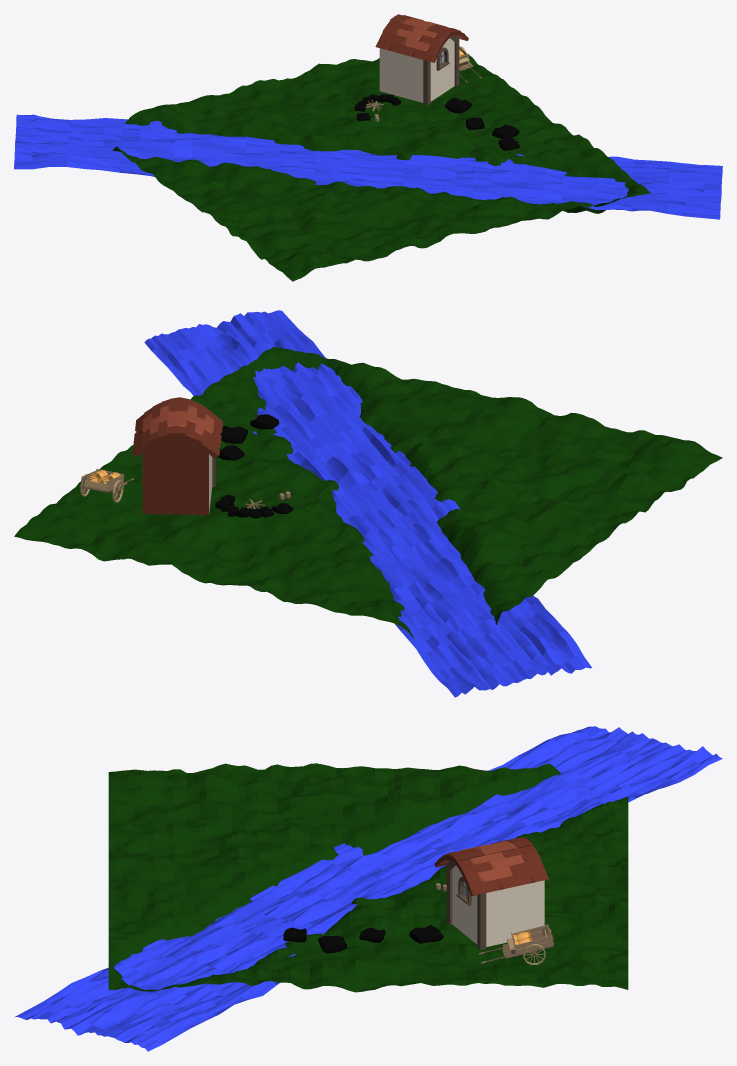
File: niwahako.obj
3 renders of one model, top to bottom at view 1: azimuth 30°, elevation 25°; view 2: azimuth 150°, elevation 25°; view 3: azimuth 270°, elevation 25°, orthographic. The views are drawn at different scales.
Parts seen in each view (by area): view 1: kawa:pPlane1, kawa:pPlane2, home:object53 home:object43, home:object53 home:object41; view 2: kawa:pPlane1, kawa:pPlane2, home:object53 home:object43; view 3: kawa:pPlane1, kawa:pPlane2, home:object53 home:object43, home:object53 home:object41.
Part boxes in pixels (box(x1,y1,x2,y2)): kawa:pPlane1: box(112, 55, 650, 281); kawa:pPlane2: box(14, 114, 722, 219); home:object53 home:object43: box(375, 14, 468, 102); home:object53 home:object41: box(423, 35, 459, 105); kawa:pPlane1: box(14, 346, 722, 639); kawa:pPlane2: box(144, 310, 591, 697); home:object53 home:object43: box(132, 397, 222, 515); kawa:pPlane1: box(108, 763, 628, 992); kawa:pPlane2: box(14, 726, 722, 1051); home:object53 home:object43: box(434, 837, 548, 946); home:object53 home:object41: box(446, 861, 486, 949).
Size of the model in its own units: 35.69 by 6.41 by 32.76.
